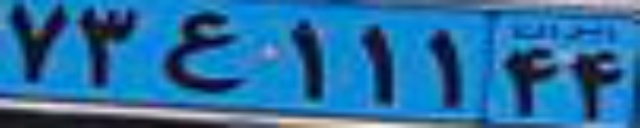1: (356, 22, 398, 110), (424, 27, 468, 109), (288, 18, 323, 102)
3: (78, 4, 134, 90)
4: (568, 49, 626, 122), (501, 45, 560, 116)
7: (11, 1, 68, 84)
ain: (161, 11, 248, 91)
